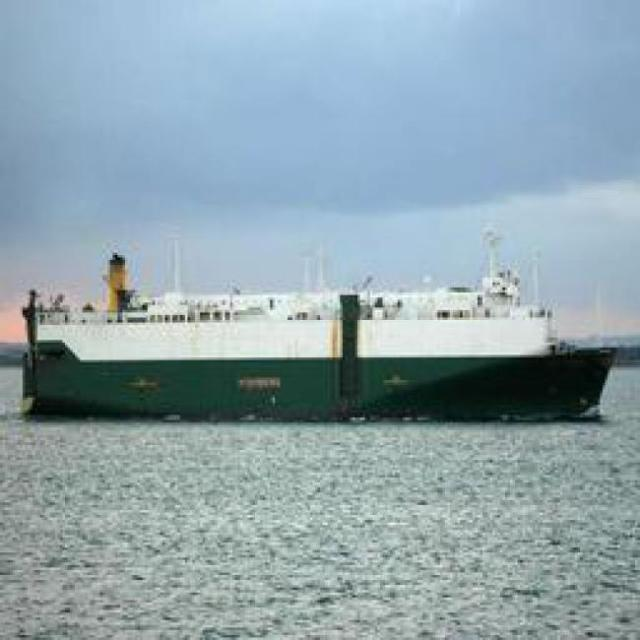boat: (12, 288, 625, 433)
